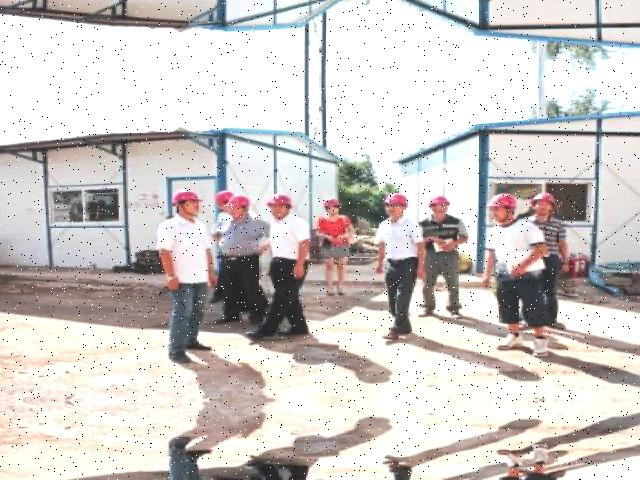Helmet: (483, 190, 524, 210), (531, 190, 563, 209), (173, 188, 205, 207), (269, 190, 297, 210), (228, 191, 256, 211), (384, 190, 413, 207), (428, 191, 457, 207), (323, 195, 348, 210)
